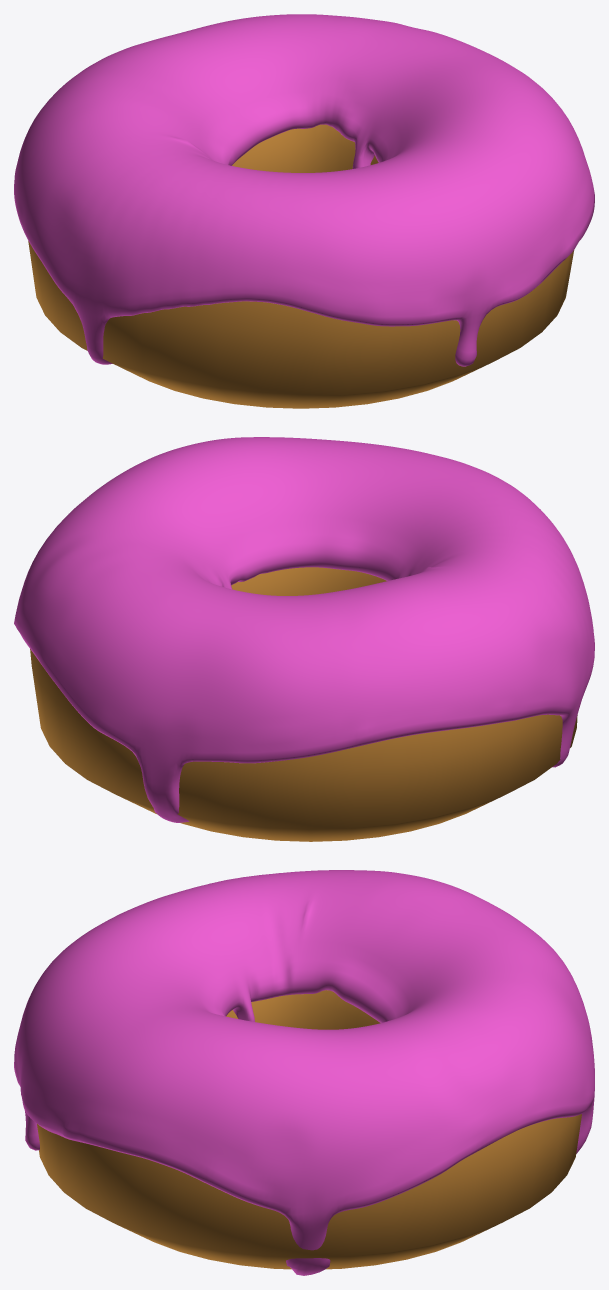
The model's file is Donut_natalie.glb.
The picture shows the model from 3 angles, top to bottom: view 1: azimuth 30°, elevation 25°; view 2: azimuth 150°, elevation 25°; view 3: azimuth 270°, elevation 25°; orthographic projection. The views are drawn at different scales.
Visible parts, largest first — view 1: icing, donut; view 2: icing, donut; view 3: icing, donut.
Part boxes in pixels (x1,y1,x2,y2): icing: (14, 14, 594, 366); donut: (28, 124, 574, 408); icing: (14, 437, 594, 822); donut: (30, 567, 577, 841); icing: (14, 870, 594, 1275); donut: (37, 990, 581, 1269).
Size of the model in its own units: 0.059 by 0.0254 by 0.0588.
